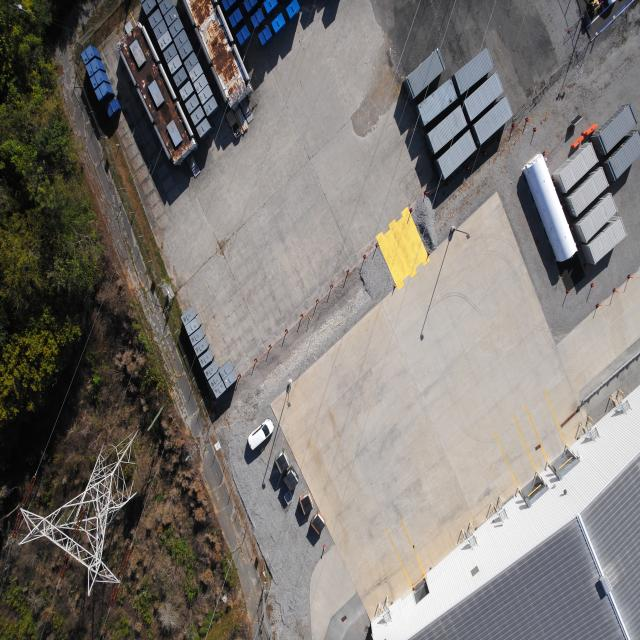Area of Interest: (0, 1, 101, 424)
